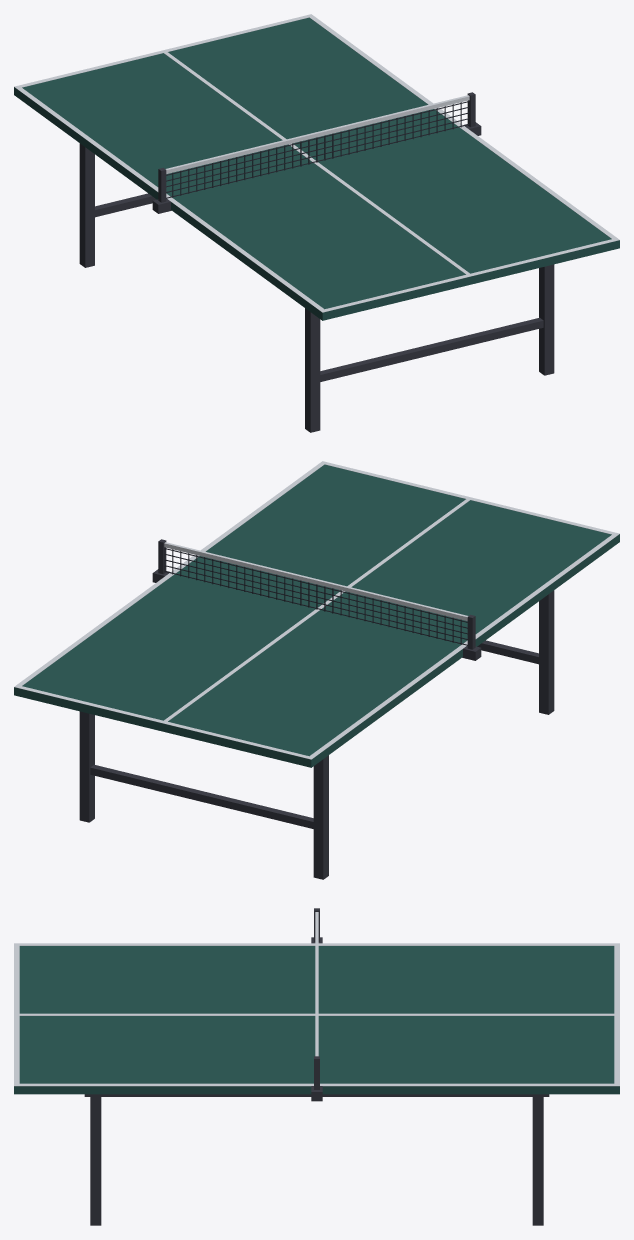
File: table.glb
3 renders of one model, top to bottom at view 1: azimuth 30°, elevation 25°; view 2: azimuth 150°, elevation 25°; view 3: azimuth 270°, elevation 25°, orthographic.
Parts seen in each view (by area): view 1: table_table_green, table_metal, table_court_line, table_net_mesh; view 2: table_table_green, table_metal, table_court_line, table_net_mesh; view 3: table_table_green, table_court_line, table_metal.
Part boxes in pixels (x1,y1,x2,y2): table_table_green: (14,17,619,320); table_metal: (79,92,554,432); table_court_line: (14,14,619,312); table_net_mesh: (166,100,469,198); table_table_green: (14,464,619,767); table_metal: (79,539,554,879); table_court_line: (14,461,619,759); table_net_mesh: (164,547,467,645); table_table_green: (14,946,619,1094); table_court_line: (14,912,619,1086); table_metal: (84,908,549,1225).
Size of the model in its own units: 1.66 by 0.916 by 2.74.
